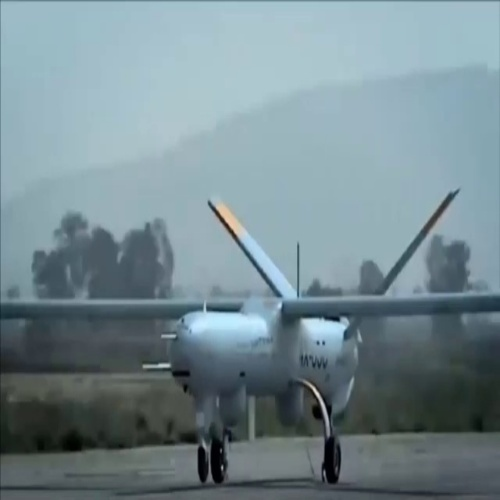uav766: (5, 191, 500, 489)
